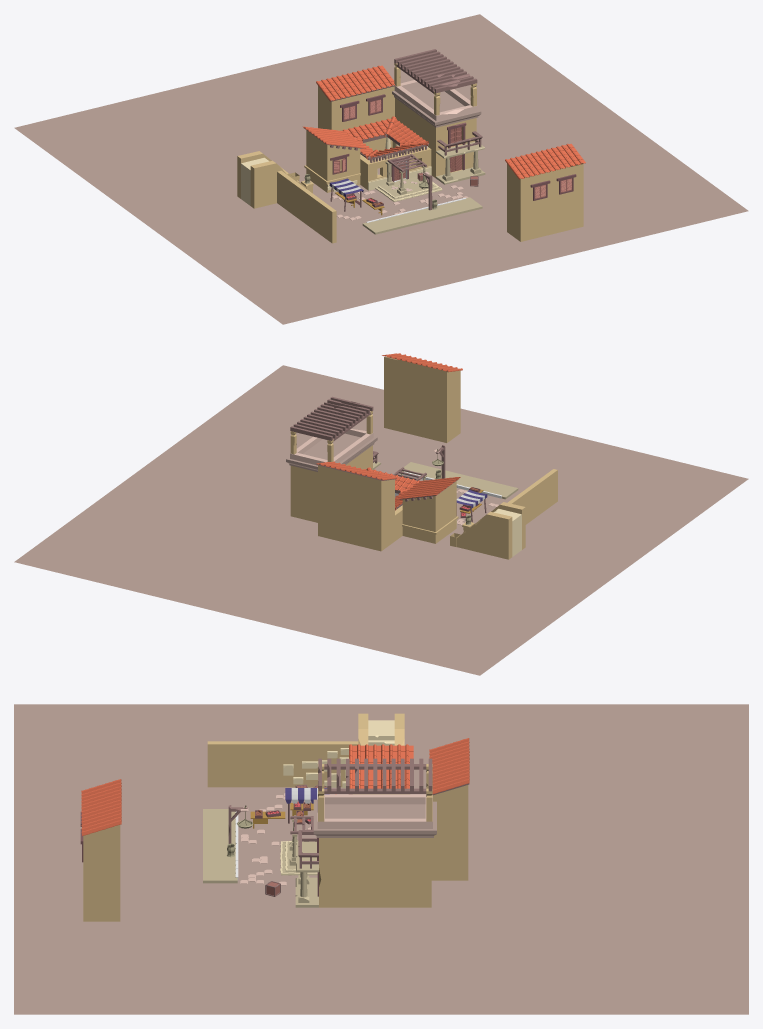
The model's file is ancient_roman_street_market.glb.
3 views of the same model, one above another, from view 1: azimuth 30°, elevation 25°; view 2: azimuth 150°, elevation 25°; view 3: azimuth 270°, elevation 25° (orthographic). The views are drawn at different scales.
Parts seen in each view (by area): view 1: Plane.010_39, Plane.082_182, Plane.069_95, Plane.044_71, Plane.001_31, Plane_30, Plane.002_32, Plane.003_33, Plane.083_183, Plane.054_81, Plane.011_40, Plane.023_53 (+6 smaller); view 2: Plane.010_39, Plane.082_182, Plane_30, Plane.001_31, Plane.003_33, Plane.044_71, Plane.002_32, Plane.069_95, Plane.041_68, Plane.011_40, Plane.042_69, Plane.027_57 (+1 smaller); view 3: Plane.010_39, Plane.002_32, Plane.069_95, Plane.082_182, Plane_30, Plane.041_68, Plane.042_69, Plane.011_40, Plane.044_71, Plane.027_57, Plane.083_183, Plane.054_81 (+2 smaller).
Boxes of the visible parts, left/top/right/bottom form: Plane.010_39: left=14, top=14, right=748, bottom=324; Plane.082_182: left=507, top=163, right=583, bottom=241; Plane.069_95: left=277, top=170, right=336, bottom=243; Plane.044_71: left=394, top=49, right=477, bottom=93; Plane.001_31: left=304, top=130, right=360, bottom=192; Plane_30: left=318, top=86, right=394, bottom=130; Plane.002_32: left=395, top=98, right=476, bottom=178; Plane.003_33: left=237, top=151, right=306, bottom=208; Plane.083_183: left=505, top=143, right=585, bottom=179; Plane.054_81: left=316, top=65, right=394, bottom=101; Plane.011_40: left=362, top=197, right=482, bottom=234; Plane.023_53: left=360, top=137, right=431, bottom=189; Plane.010_39: left=14, top=365, right=748, bottom=675; Plane.082_182: left=384, top=356, right=460, bottom=442; Plane_30: left=318, top=465, right=394, bottom=551; Plane.001_31: left=402, top=481, right=458, bottom=543; Plane.003_33: left=456, top=502, right=525, bottom=559; Plane.044_71: left=290, top=396, right=373, bottom=440; Plane.002_32: left=290, top=445, right=372, bottom=522; Plane.069_95: left=507, top=469, right=557, bottom=524; Plane.041_68: left=286, top=433, right=377, bottom=471; Plane.011_40: left=399, top=462, right=518, bottom=499; Plane.042_69: left=290, top=429, right=373, bottom=465; Plane.027_57: left=397, top=477, right=460, bottom=499; Plane.010_39: left=14, top=704, right=748, bottom=1014; Plane.002_32: left=319, top=838, right=431, bottom=907; Plane.069_95: left=207, top=741, right=358, bottom=787; Plane.082_182: left=83, top=825, right=120, bottom=921; Plane_30: left=431, top=785, right=468, bottom=880; Plane.041_68: left=313, top=799, right=436, bottom=837; Plane.042_69: left=317, top=794, right=432, bottom=828; Plane.011_40: left=203, top=809, right=237, bottom=883; Plane.044_71: left=318, top=758, right=432, bottom=791; Plane.027_57: left=349, top=744, right=413, bottom=788; Plane.083_183: left=81, top=779, right=121, bottom=835; Plane.054_81: left=429, top=738, right=469, bottom=794.
Size of the model in its own units: 57.97 by 10.72 by 57.97.
